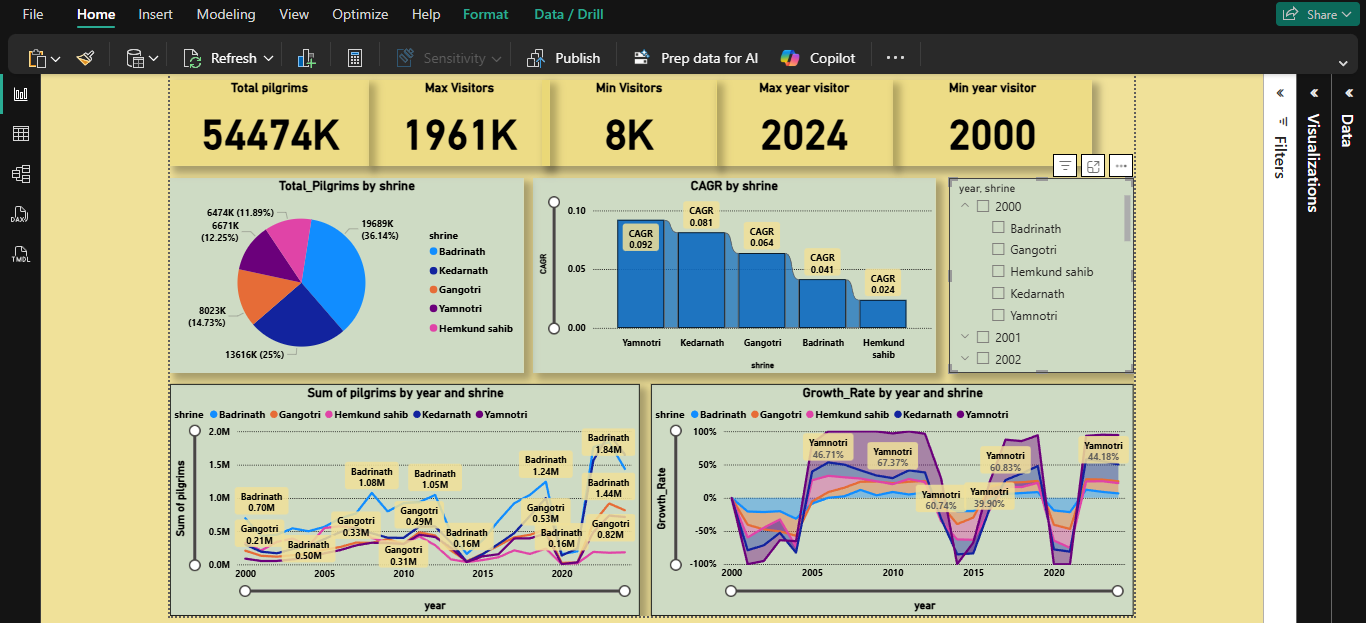

The dashboard page shown, as its layout file describes it:
{"tool":"powerbi","page":{"name":"Page 1","canvas":[1280,720],"ordinal":0},"visuals":[{"type":"card","title":"Total pilgrims","fields":{"Values":["PilgrimData.Total_Pilgrims"]},"box":[0,7.5,264.4,113.5],"z":0},{"type":"card","title":"Max Visitors","fields":{"Values":["PilgrimData.Max_Visitors_Year"]},"box":[264.4,7.5,240.5,113.5],"z":1000},{"type":"card","title":"Min Visitors","fields":{"Values":["PilgrimData.Min_Visitors_Year"]},"box":[494.4,7.5,231.5,113.5],"z":2000},{"type":"card","title":"Max year visitor","fields":{"Values":["PilgrimData.Year_of_Max_Visitors"]},"box":[726,7.5,234.5,113.5],"z":3000},{"type":"card","title":"Min year visitor","fields":{"Values":["PilgrimData.Year_of_Min_Visitors"]},"box":[960.5,7.5,264.4,113.5],"z":4000},{"type":"lineChart","fields":{"Category":["PilgrimData.year"],"Series":["PilgrimData.shrine"],"Y":["Sum(PilgrimData.pilgrims)"]},"box":[0,412.3,639.3,307.7],"z":5000},{"type":"pieChart","fields":{"Category":["PilgrimData.shrine"],"Y":["PilgrimData.Total_Pilgrims"]},"box":[0,127,482.5,285.3],"z":6000},{"type":"hundredPercentStackedAreaChart","fields":{"Category":["PilgrimData.year"],"Y":["PilgrimData.Growth_Rate"],"Series":["PilgrimData.shrine"]},"box":[639.3,412.3,640.8,307.7],"z":7000},{"type":"columnChart","fields":{"Category":["PilgrimData.shrine"],"Y":["PilgrimData.CAGR"]},"box":[482.5,127,552.7,285.3],"z":8000},{"type":"slicer","fields":{"Values":["PilgrimData.year","PilgrimData.shrine"]},"box":[1035.2,127,245,285.3],"z":9000}]}

Visuals, with their boxes on the page's 1280x720 design canvas (x1, y1, x2, y2). These are canvas units, not pixel positions in the 1366x623 screenshot, which may show the page scaled, cropped or inside an application window:
"Total pilgrims" card: [left=0, top=8, right=264, bottom=121]
"Max Visitors" card: [left=264, top=8, right=505, bottom=121]
"Min Visitors" card: [left=494, top=8, right=726, bottom=121]
"Max year visitor" card: [left=726, top=8, right=960, bottom=121]
"Min year visitor" card: [left=960, top=8, right=1225, bottom=121]
lineChart - PilgrimData.year x PilgrimData.shrine: [left=0, top=412, right=639, bottom=720]
pieChart - PilgrimData.shrine x PilgrimData.Total_Pilgrims: [left=0, top=127, right=482, bottom=412]
hundredPercentStackedAreaChart - PilgrimData.year x PilgrimData.Growth_Rate: [left=639, top=412, right=1280, bottom=720]
columnChart - PilgrimData.shrine x PilgrimData.CAGR: [left=482, top=127, right=1035, bottom=412]
slicer - PilgrimData.year x PilgrimData.shrine: [left=1035, top=127, right=1280, bottom=412]
